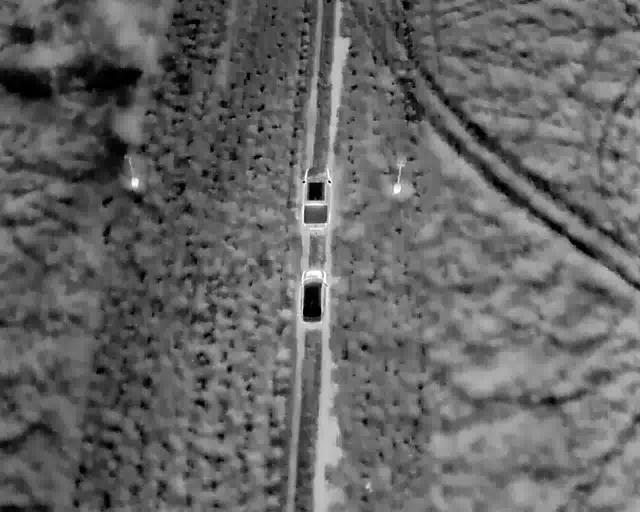car: (302, 167, 331, 234), (299, 268, 327, 324)
